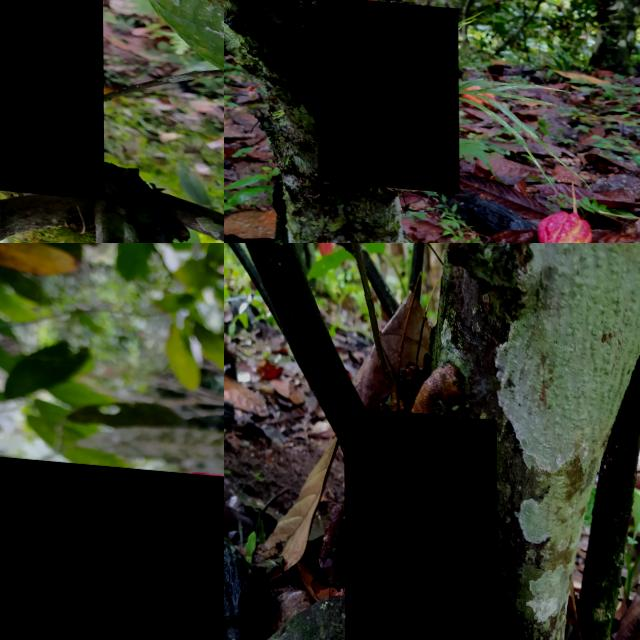Fitoftora: (0, 453, 224, 640), (0, 0, 102, 189)
Monilia: (344, 402, 498, 640), (317, 0, 458, 186)
